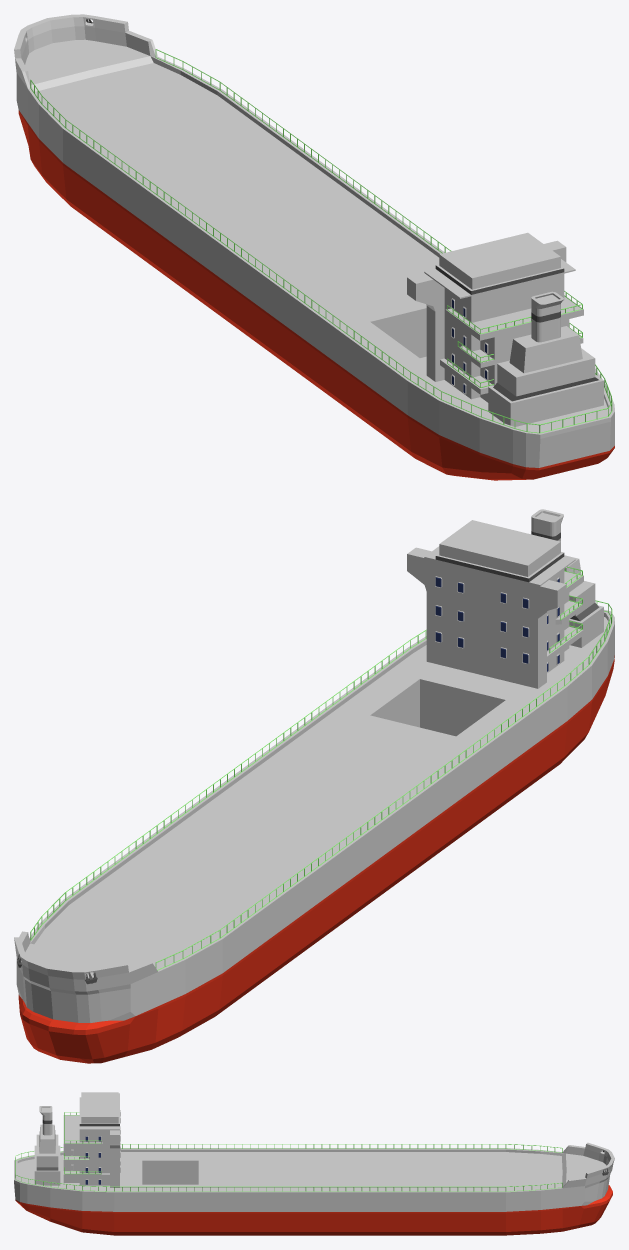
Rendered from ship_small_1.fbx.
The picture shows the model from 3 angles, top to bottom: view 1: azimuth 30°, elevation 25°; view 2: azimuth 150°, elevation 25°; view 3: azimuth 270°, elevation 25°; orthographic projection. The views are drawn at different scales.
Parts seen in each view (by area): view 1: ContainerShip; view 2: ContainerShip; view 3: ContainerShip.
Part boxes in pixels (x1,y1,x2,y2): ContainerShip: (14,14,614,480); ContainerShip: (14,509,614,1063); ContainerShip: (14,1092,614,1235).
Bounding box in the file's own units: 371 × 440 × 2128.
